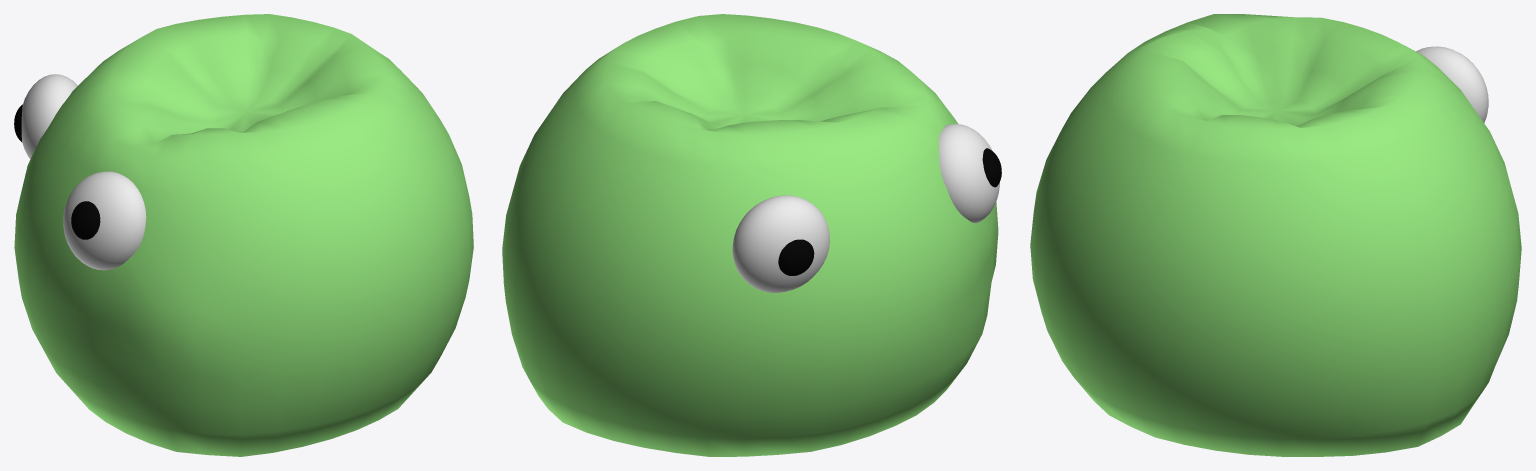
File: slime.fbx
The picture shows the model from 3 angles, left to right: view 1: azimuth 30°, elevation 25°; view 2: azimuth 150°, elevation 25°; view 3: azimuth 270°, elevation 25°; orthographic projection. The views are drawn at different scales.
Parts seen in each view (by area): view 1: Sphere; view 2: Sphere; view 3: Sphere.
Part boxes in pixels (box(x1,y1,x2,y2)): Sphere: box(14, 14, 473, 456); Sphere: box(502, 14, 1001, 456); Sphere: box(1030, 14, 1521, 456).
Bounding box in the file's own units: 402 × 280 × 401.
